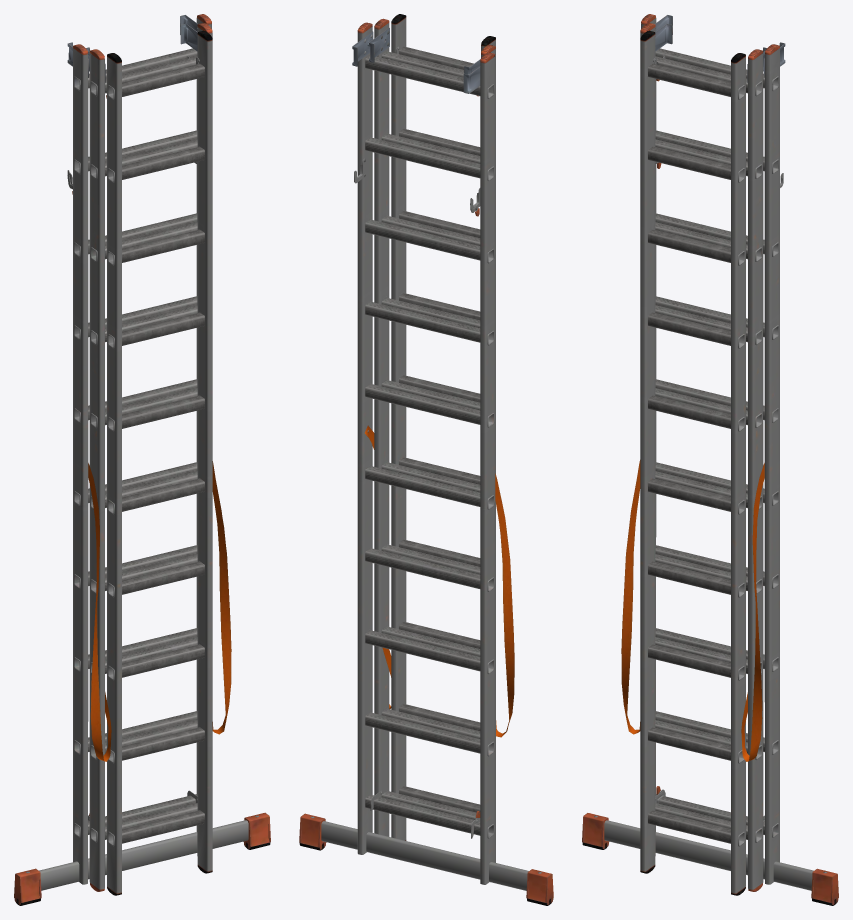
File: escada.glb
3 views of the same model, side by side, from view 1: azimuth 30°, elevation 25°; view 2: azimuth 150°, elevation 25°; view 3: azimuth 330°, elevation 25° (orthographic).
Visible parts, largest first — view 1: ladder_section_03, ladder_section_01, ladder_section_02, ladder_ribbon; view 2: ladder_section_01, ladder_section_02, ladder_section_03, ladder_ribbon; view 3: ladder_section_03, ladder_section_01, ladder_section_02, ladder_ribbon.
Part boxes in pixels (x1=…): ladder_section_03: x1=106, y1=30, x2=212, y2=895; ladder_section_01: x1=14, y1=14, x2=270, y2=905; ladder_section_02: x1=86, y1=23, x2=212, y2=891; ladder_ribbon: x1=88, y1=461, x2=231, y2=761; ladder_section_01: x1=299, y1=22, x2=553, y2=905; ladder_section_02: x1=369, y1=18, x2=495, y2=862; ladder_section_03: x1=388, y1=14, x2=495, y2=840; ladder_ribbon: x1=364, y1=425, x2=514, y2=737; ladder_section_03: x1=640, y1=30, x2=745, y2=895; ladder_section_01: x1=582, y1=14, x2=838, y2=905; ladder_section_02: x1=640, y1=23, x2=766, y2=891; ladder_ribbon: x1=621, y1=460, x2=764, y2=761.
Size of the model in its own units: 0.6616 by 2.13 by 0.1775.
Materials: 1 (1 with a texture image).
